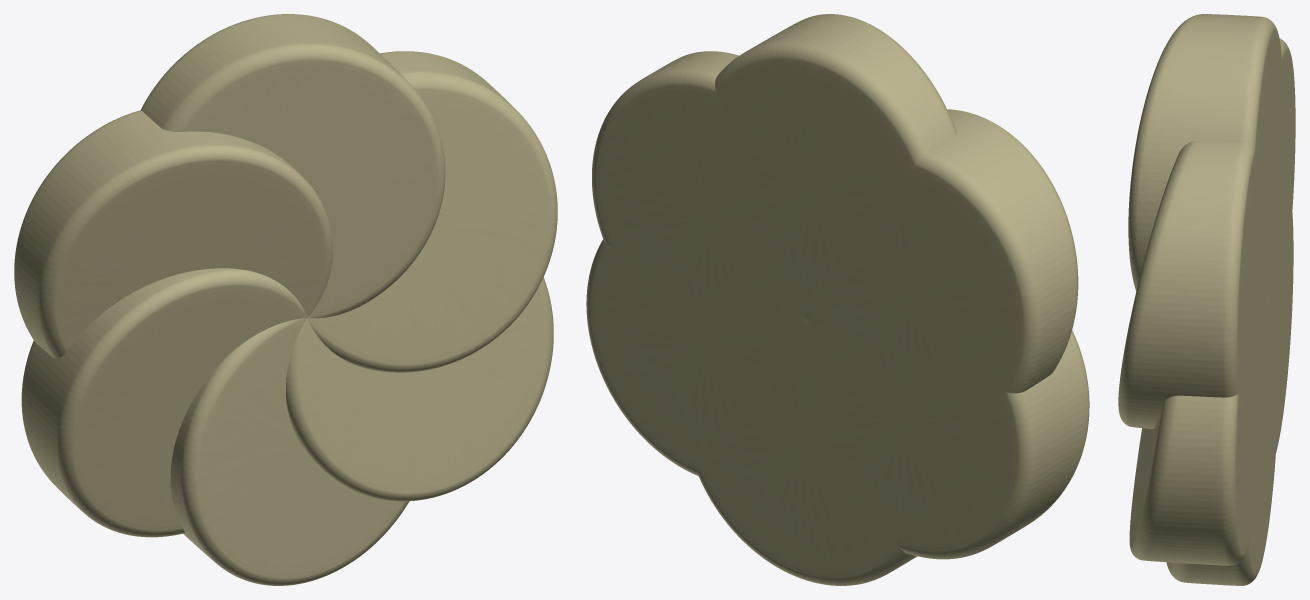
3 views of the same model, side by side, from view 1: azimuth 30°, elevation 25°; view 2: azimuth 150°, elevation 25°; view 3: azimuth 270°, elevation 25° (orthographic).
Visible parts, largest first — view 1: Circle; view 2: Circle; view 3: Circle.
Boxes of the visible parts, x1,y1,x2,y2 form: Circle: [14, 14, 557, 585]; Circle: [586, 14, 1089, 585]; Circle: [1118, 14, 1295, 585].
Bounding box in the file's own units: 2.79 × 2.93 × 0.8802.
